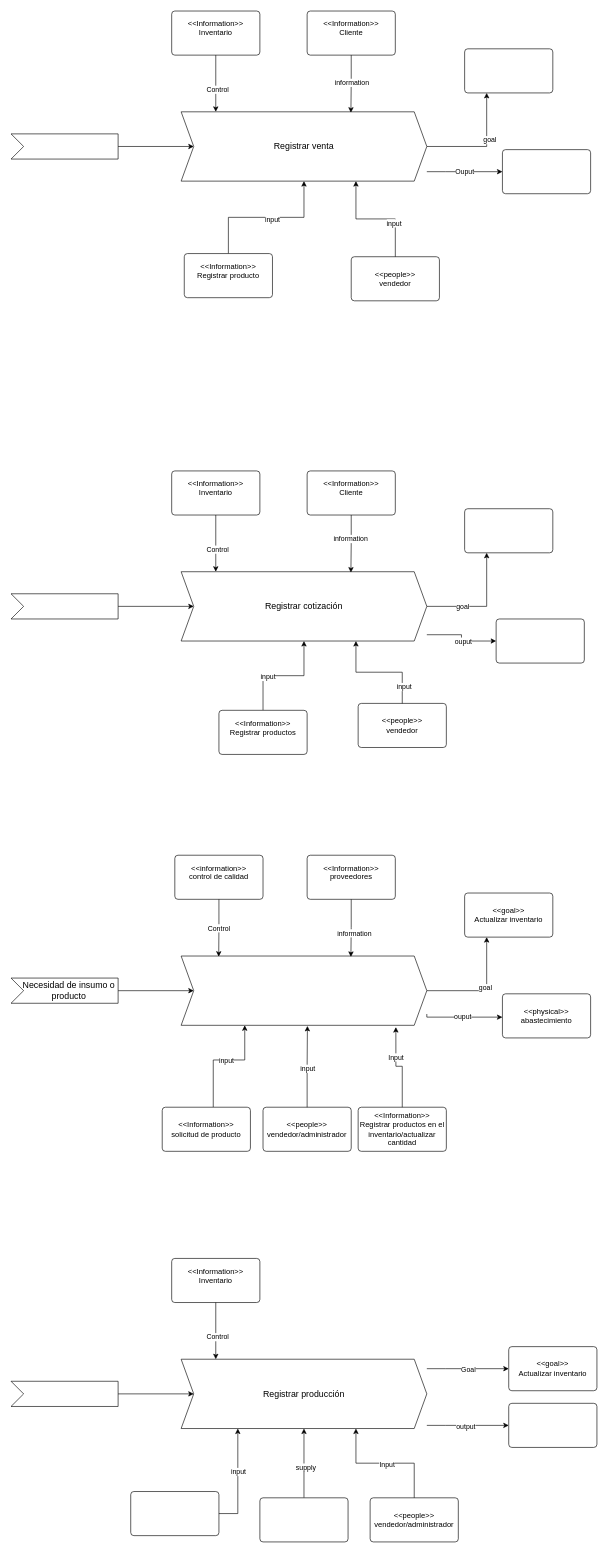
Image size: 608x1553. Some labels were removed from this diagram. The shapes that lost their labels are listed below. From the top down, each one's centre as x and y in pixels, then its label:
At pixel 508 70: "<<Information>> Actualizar inventario".
At pixel 64 146: "Recibe pedido o cotización del cliente".
At pixel 546 171: "<<Goal>> Factura de venta".
At pixel 508 530: "<<goal>> Generar cotización".
At pixel 64 606: "Solicitud de cotización".
At pixel 539 640: "<<physical>> cotización".
At pixel 303 990: "Registrar abastecimiento".
At pixel 64 1393: "producción".
At pixel 552 1425: "<<physical>> abastecimiento producción".
At pixel 174 1513: "<<Information>> Registrar insumos consumidos para la producción".
At pixel 303 1519: "<<Information>> Registrar productos en el inventario".
